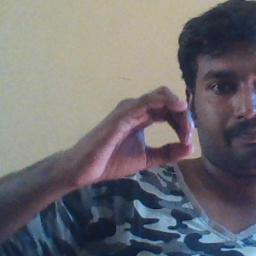O: (80, 83, 199, 188)
